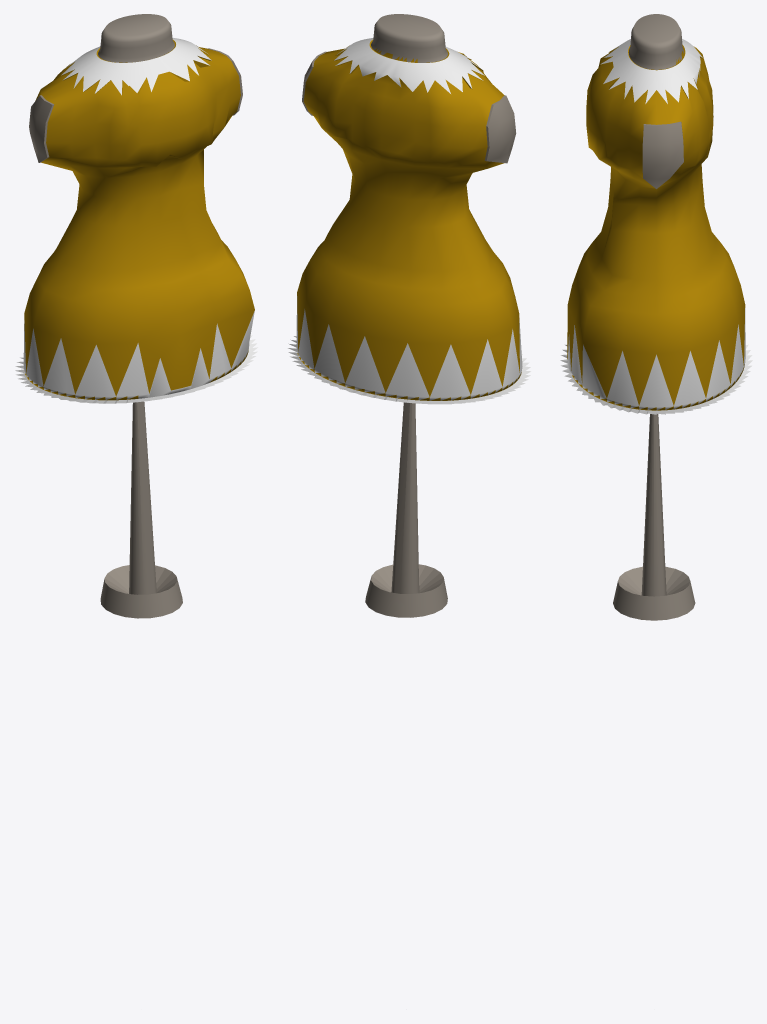
Rendered from Mannequin.fbx.
3 views of the same model, side by side, from view 1: azimuth 30°, elevation 25°; view 2: azimuth 150°, elevation 25°; view 3: azimuth 270°, elevation 25° (orthographic).
Visible parts, largest first — view 1: nurbsToPoly1, pCylinder1; view 2: nurbsToPoly1, pCylinder1; view 3: nurbsToPoly1, pCylinder1.
Part boxes in pixels (x1,y1,x2,y2): nurbsToPoly1: (15, 14, 257, 403); pCylinder1: (100, 401, 182, 618); nurbsToPoly1: (288, 14, 530, 404); pCylinder1: (365, 402, 447, 617); nurbsToPoly1: (560, 14, 752, 414); pCylinder1: (613, 414, 695, 620).
Size of the model in its own units: 2.91 by 12.24 by 2.18.
